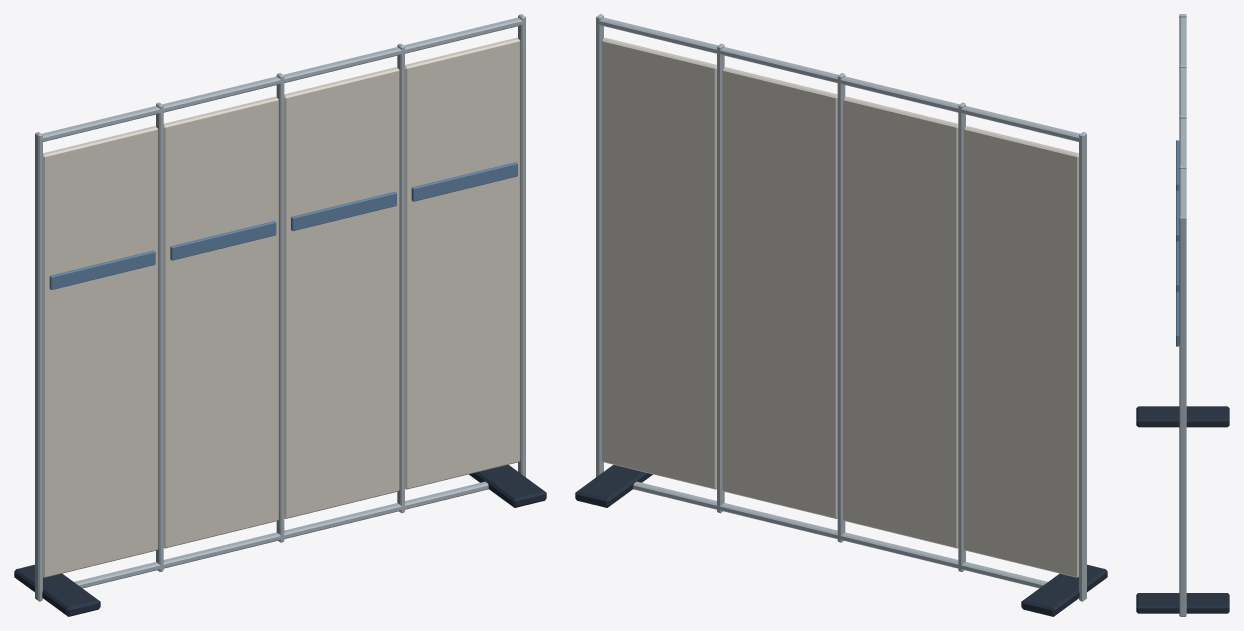
Rendered from architecture_12.glb.
3 renders of one model, left to right at view 1: azimuth 30°, elevation 25°; view 2: azimuth 150°, elevation 25°; view 3: azimuth 270°, elevation 25°, orthographic. The views are drawn at different scales.
Visible parts, largest first — view 1: Fabric (×4), FoldStile (×5), FoldRail (×8), PrivacyAccent (×4), PartitionFoot (×2); view 2: Fabric (×4), FoldStile (×5), FoldRail (×8), PartitionFoot (×2); view 3: PartitionFoot (×2), FoldStile, FoldRail (×4), PrivacyAccent (×4).
Part boxes in pixels (bbox=[...]): Fabric (×4): bbox=[43, 37, 520, 577]; FoldStile (×5): bbox=[35, 14, 525, 601]; FoldRail (×8): bbox=[42, 17, 522, 588]; PrivacyAccent (×4): bbox=[49, 162, 517, 289]; PartitionFoot (×2): bbox=[14, 464, 546, 616]; Fabric (×4): bbox=[601, 37, 1078, 577]; FoldStile (×5): bbox=[596, 14, 1086, 601]; FoldRail (×8): bbox=[599, 17, 1079, 588]; PartitionFoot (×2): bbox=[575, 464, 1107, 616]; PartitionFoot (×2): bbox=[1136, 406, 1229, 613]; FoldStile: bbox=[1179, 216, 1186, 616]; FoldRail (×4): bbox=[1179, 17, 1186, 216]; PrivacyAccent (×4): bbox=[1176, 140, 1179, 346].
Size of the model in its own units: 1.86 by 1.7 by 0.36.
